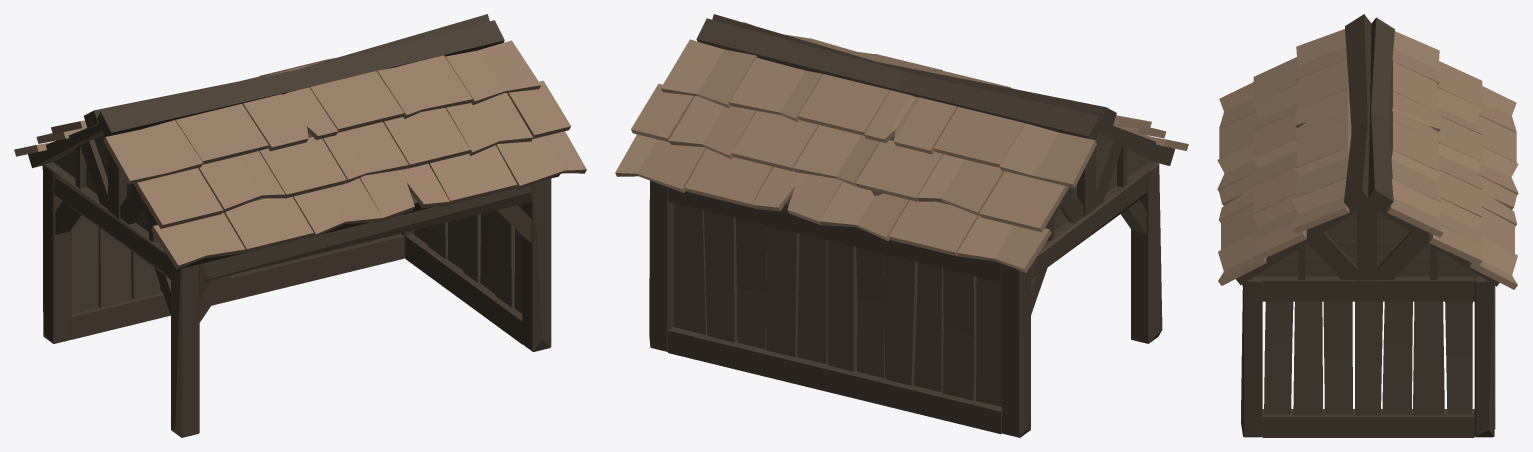
The model's file is S_Shed.fbx.
3 views of the same model, side by side, from view 1: azimuth 30°, elevation 25°; view 2: azimuth 150°, elevation 25°; view 3: azimuth 270°, elevation 25° (orthographic). The views are drawn at different scales.
Visible parts, largest first — view 1: Shed; view 2: Shed; view 3: Shed.
Part boxes in pixels (x1,y1,x2,y2): Shed: (14,14,586,437); Shed: (615,14,1188,437); Shed: (1217,14,1518,437).
Size of the model in its own units: 22.04 by 14.21 by 15.26.
